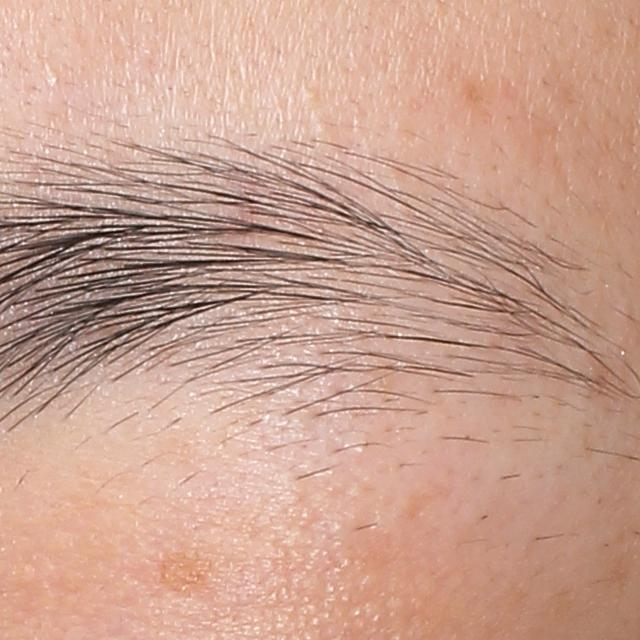comedo: (42, 70, 66, 90), (300, 86, 320, 105)
